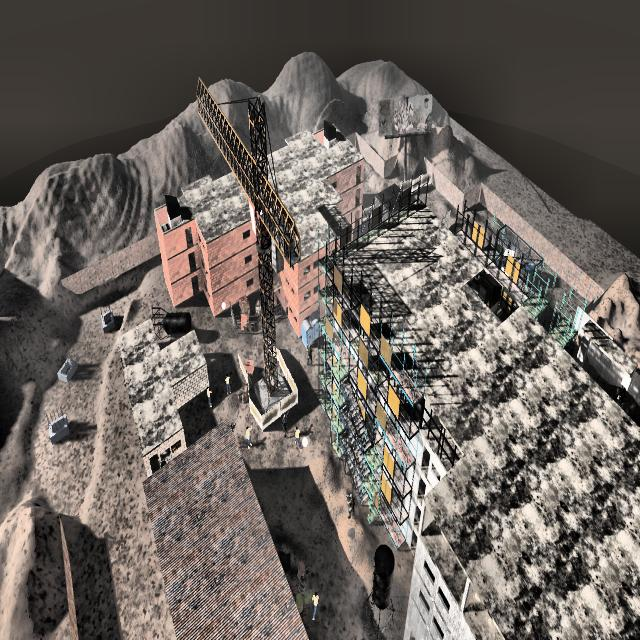bad: (343, 483, 358, 528), (280, 405, 290, 447), (304, 335, 315, 370), (230, 418, 234, 443)
good: (309, 584, 321, 627), (290, 423, 304, 457), (221, 364, 233, 402), (242, 421, 255, 456), (204, 378, 216, 415)
